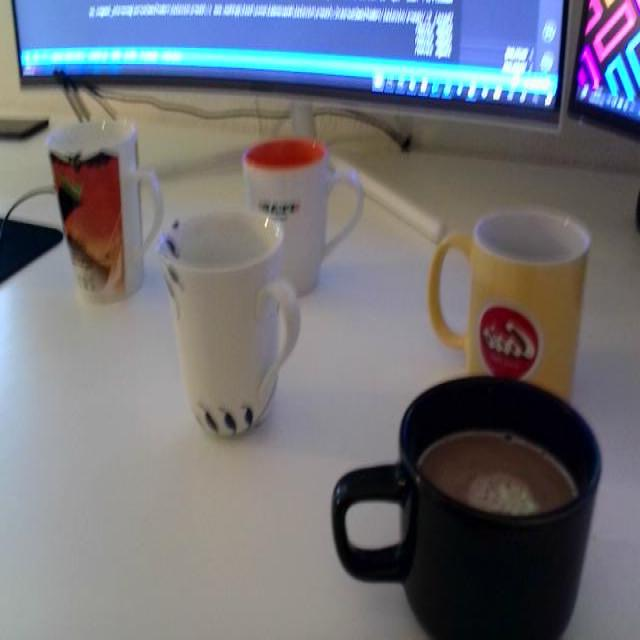cup: (323, 366, 608, 640), (151, 204, 324, 454), (422, 193, 598, 385), (26, 115, 168, 312), (236, 130, 380, 300)
